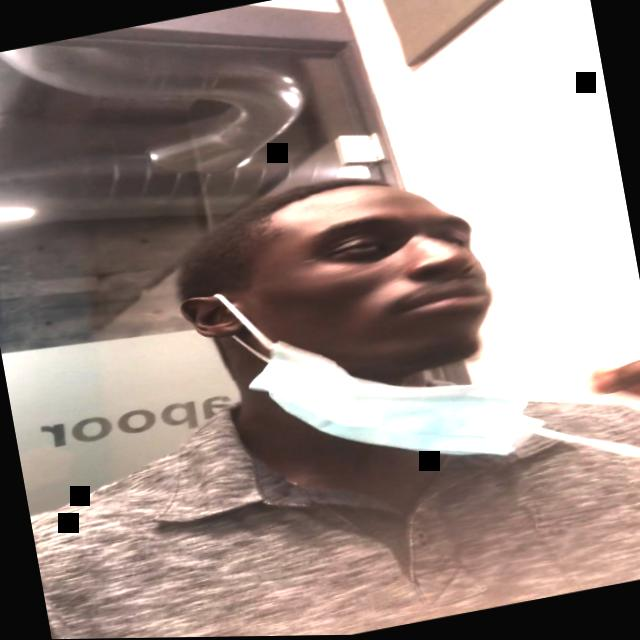NO-Mask: (200, 176, 508, 409)
